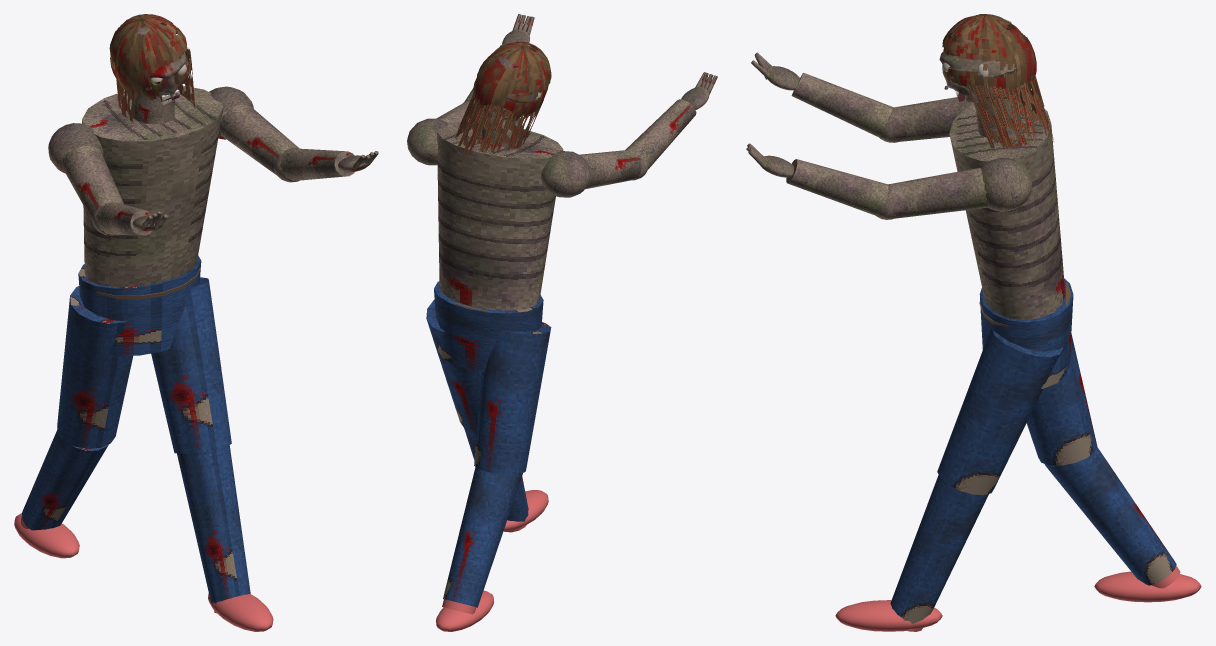
Rendered from Zombie_061.glb.
3 views of the same model, side by side, from view 1: azimuth 30°, elevation 25°; view 2: azimuth 150°, elevation 25°; view 3: azimuth 270°, elevation 25° (orthographic). The views are drawn at different scales.
Visible parts, largest first — view 1: Zombie_061, object 40, object 10, object 41, object 3, object 16; view 2: Zombie_061, object 41, object 3, object 40, object 48, object 46, object 47; view 3: Zombie_061, object 41, object 10, object 3, object 40, object 16, object 42, object 43, object 44.
Boxes of the visible parts, x1,y1,x2,y2 form: Zombie_061: (14, 85, 299, 631); object 40: (111, 14, 186, 76); object 10: (280, 148, 354, 180); object 41: (109, 14, 191, 100); object 3: (96, 202, 153, 235); object 16: (137, 24, 189, 98); Zombie_061: (407, 101, 642, 631); object 41: (473, 46, 548, 121); object 3: (625, 99, 696, 169); object 40: (487, 41, 551, 100); object 48: (480, 98, 518, 152); object 46: (456, 101, 491, 161); object 47: (470, 104, 500, 152); Zombie_061: (835, 93, 1201, 631); object 41: (944, 18, 1036, 98); object 10: (786, 159, 888, 215); object 3: (791, 72, 893, 137); object 40: (942, 14, 1027, 67); object 16: (939, 25, 1016, 103); object 42: (966, 82, 1012, 148); object 43: (985, 74, 1027, 148); object 44: (1004, 71, 1035, 144).
Bounding box in the file's own units: 0.7227 × 1.75 × 1.22.
16 materials, 6 textured.
